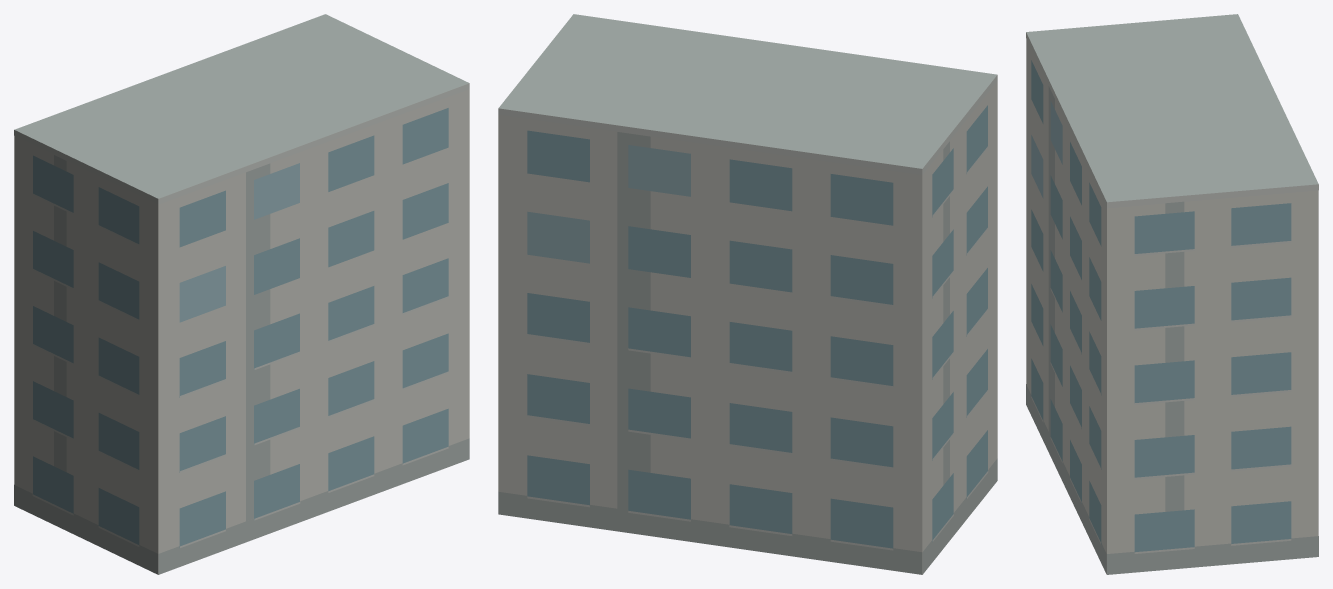
The model's file is residential-c82b2501-100a-432f-8967-2f908293381b.glb.
3 views of the same model, side by side, from view 1: azimuth 30°, elevation 25°; view 2: azimuth 150°, elevation 25°; view 3: azimuth 270°, elevation 25° (orthographic). The views are drawn at different scales.
Parts seen in each view (by area): view 1: residential-c82b2501-100a-432f-8967-2f908293381b.tmp; view 2: residential-c82b2501-100a-432f-8967-2f908293381b.tmp; view 3: residential-c82b2501-100a-432f-8967-2f908293381b.tmp.
Boxes of the visible parts, box(x1,y1,x2,y2) form: residential-c82b2501-100a-432f-8967-2f908293381b.tmp: box(14, 14, 469, 574); residential-c82b2501-100a-432f-8967-2f908293381b.tmp: box(498, 14, 997, 574); residential-c82b2501-100a-432f-8967-2f908293381b.tmp: box(1026, 14, 1318, 574).
Size of the model in its own units: 16.53 by 15.25 by 10.87.
